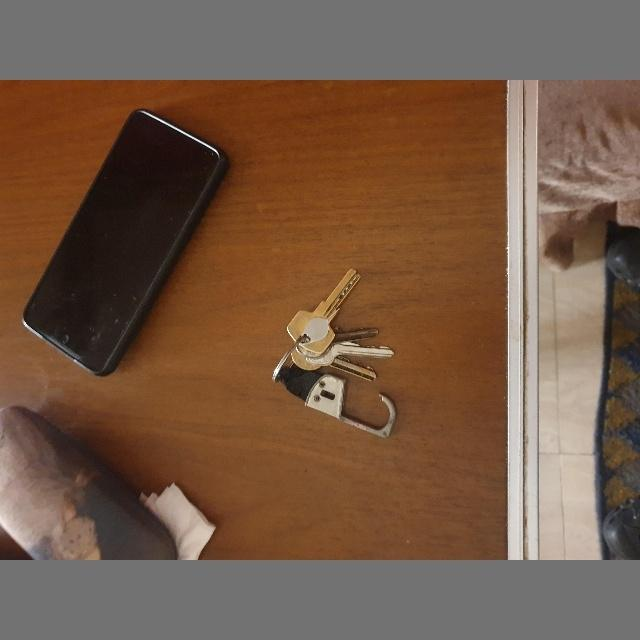Keys: (156, 282, 400, 386)
